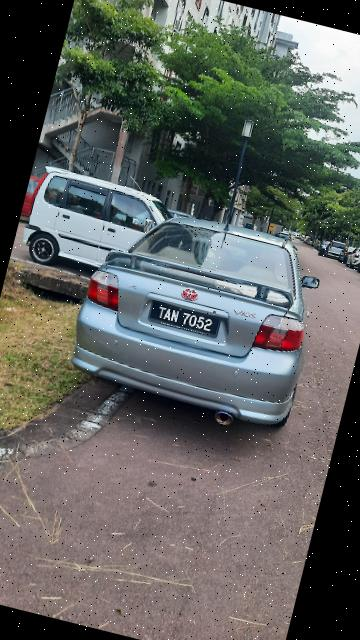License_Plate: (144, 296, 223, 342)
car: (54, 192, 342, 457)
